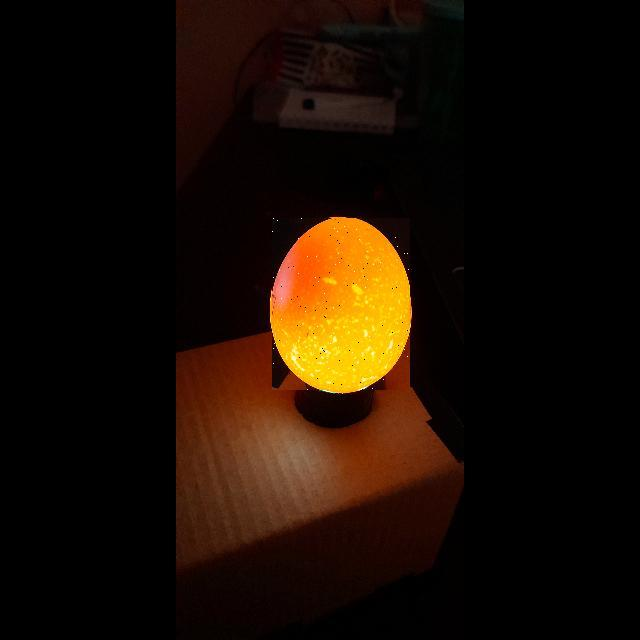Fertile: (272, 218, 410, 390)
